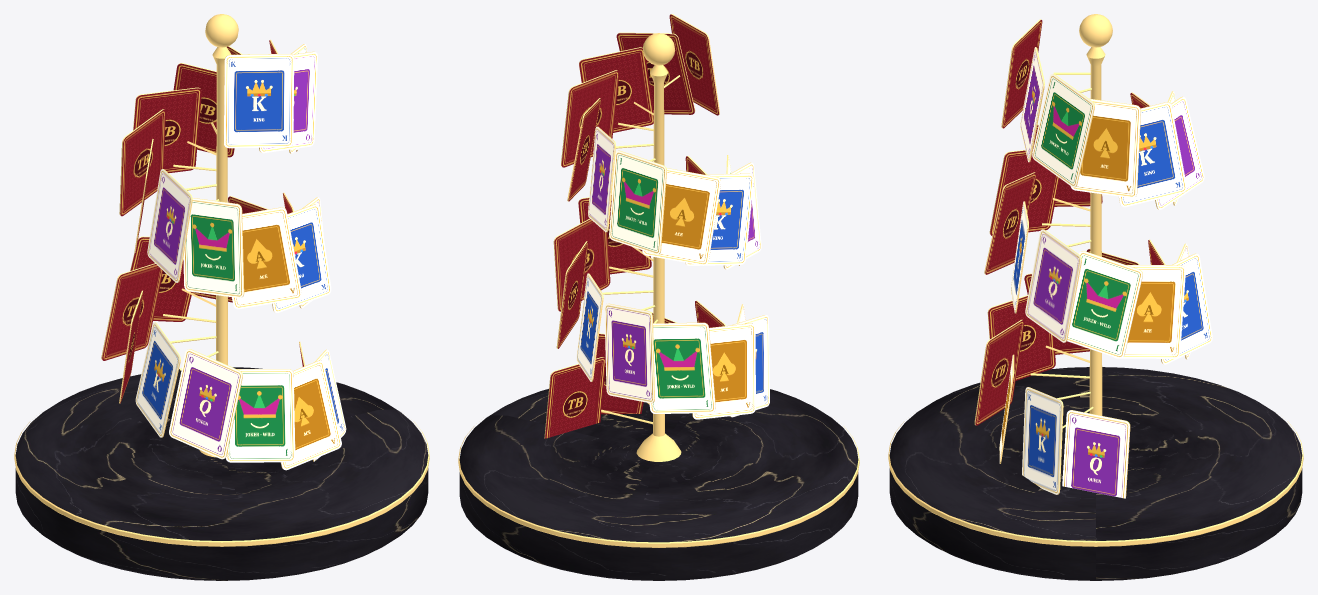
File: tb_sculpture.glb
The picture shows the model from 3 angles, left to right: view 1: azimuth 30°, elevation 25°; view 2: azimuth 150°, elevation 25°; view 3: azimuth 270°, elevation 25°; orthographic projection. The views are drawn at different scales.
Visible parts, largest first — view 1: tb_sculpture; view 2: tb_sculpture; view 3: tb_sculpture.
Boxes of the visible parts, bbox=[...] form: tb_sculpture: bbox=[14, 14, 429, 580]; tb_sculpture: bbox=[458, 14, 859, 580]; tb_sculpture: bbox=[888, 14, 1303, 580].
Bounding box in the file's own units: 3.92 × 5.01 × 3.92.
7 materials, 6 textured.
